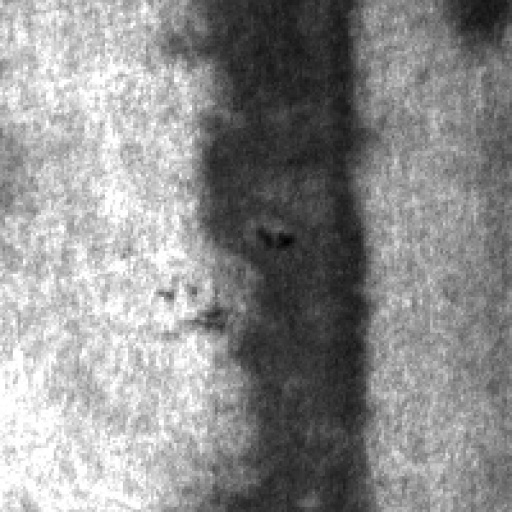patches: (140, 0, 389, 511), (429, 1, 511, 59)
